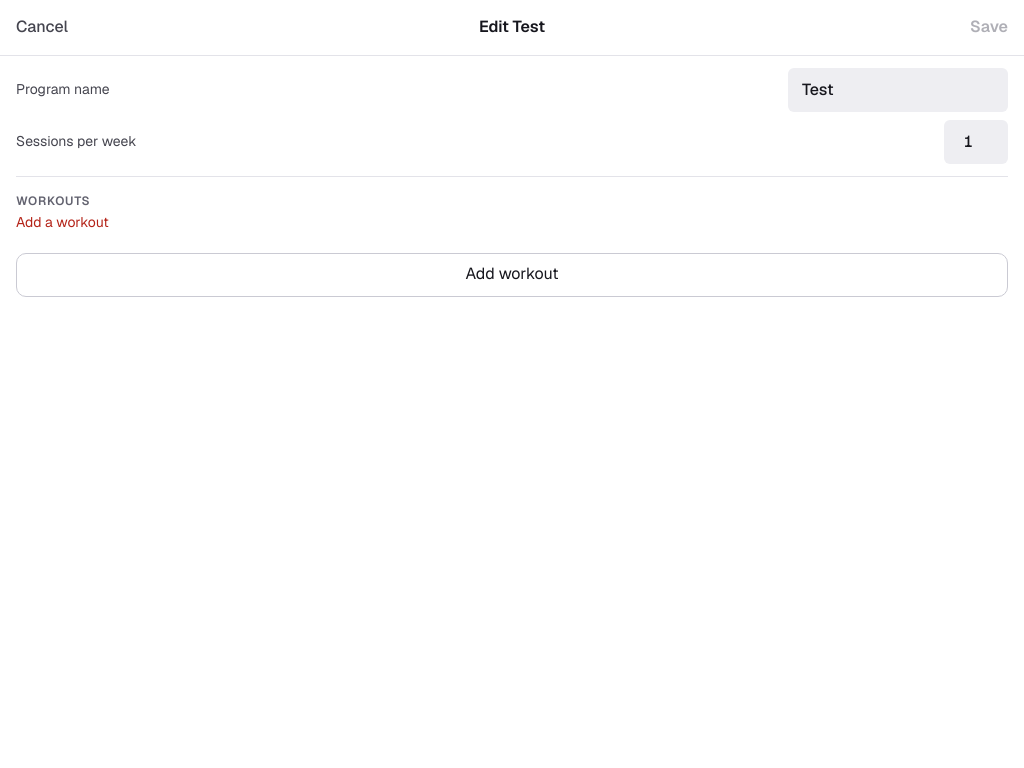
Test: O16 the no-workouts fault disables Save and is shown under the Workouts heading, until fixed
Expected: the button "Save" is disabled, [970, 6, 1008, 50]
Click the button "Add workout". click: (512, 275)
box: [16, 253, 1008, 297]
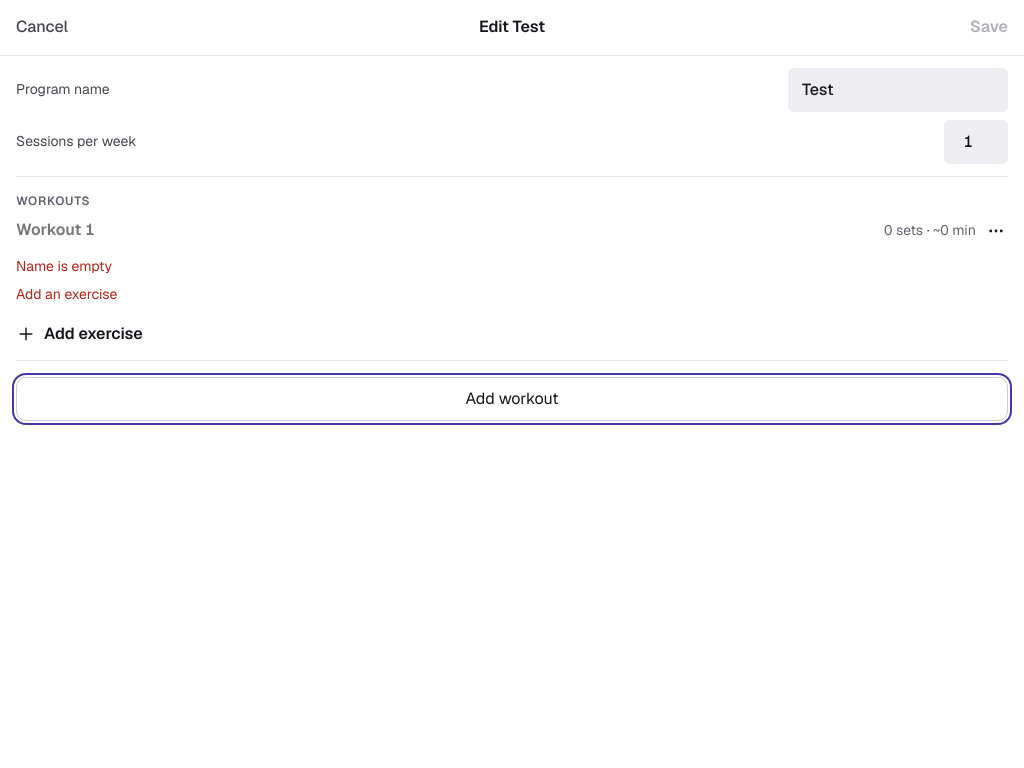
Type "Upper" into the field named "Workout name". click: (446, 231)
box: [16, 209, 876, 253]
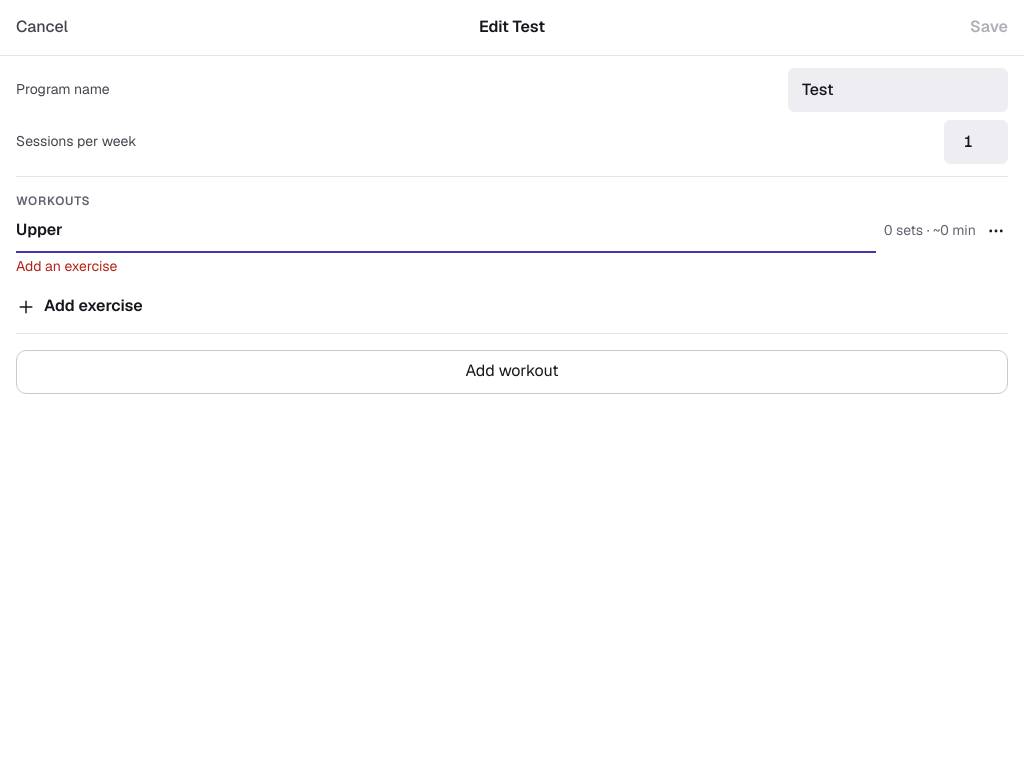
Click the button "Add exercise". click: (93, 306)
box: [16, 281, 1008, 333]
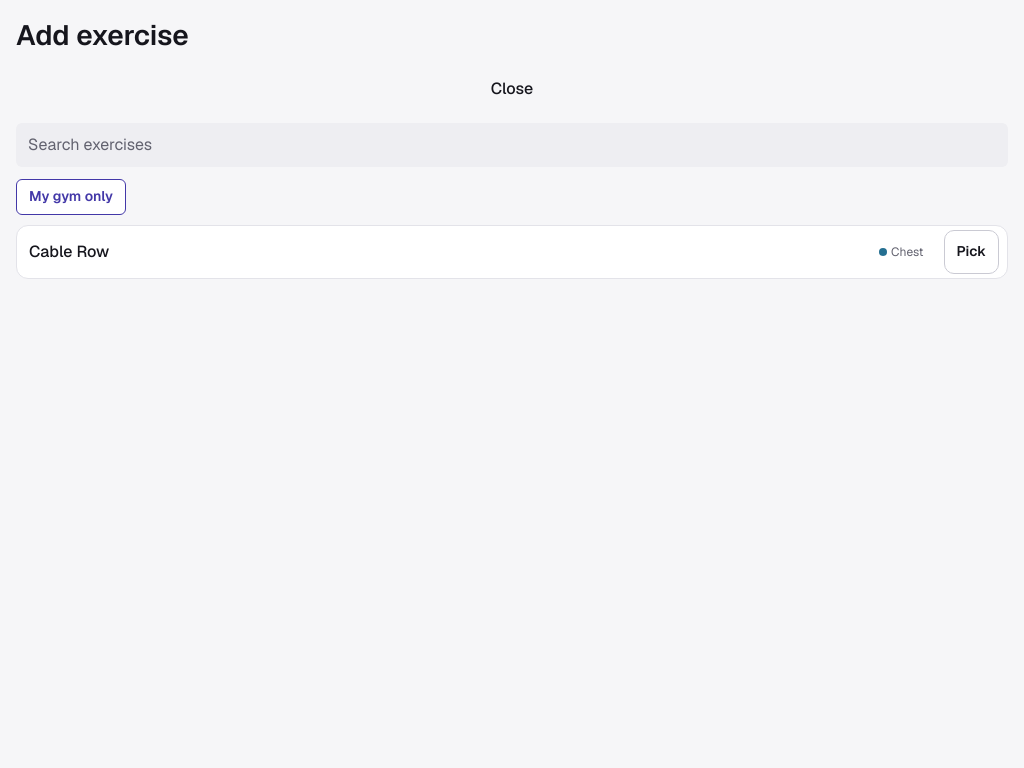
Type "row" into the search field labelled "Search exercises". click: (512, 145)
box: [16, 123, 1008, 167]
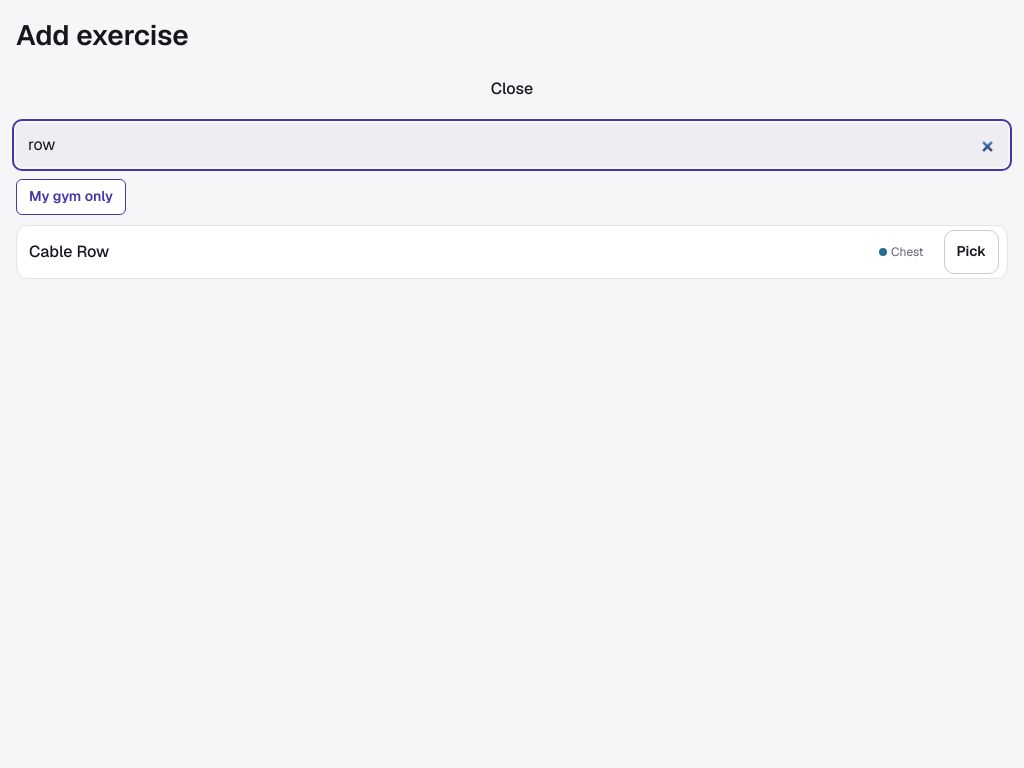
Click the button "Pick". click: (971, 252)
box: [944, 230, 999, 274]
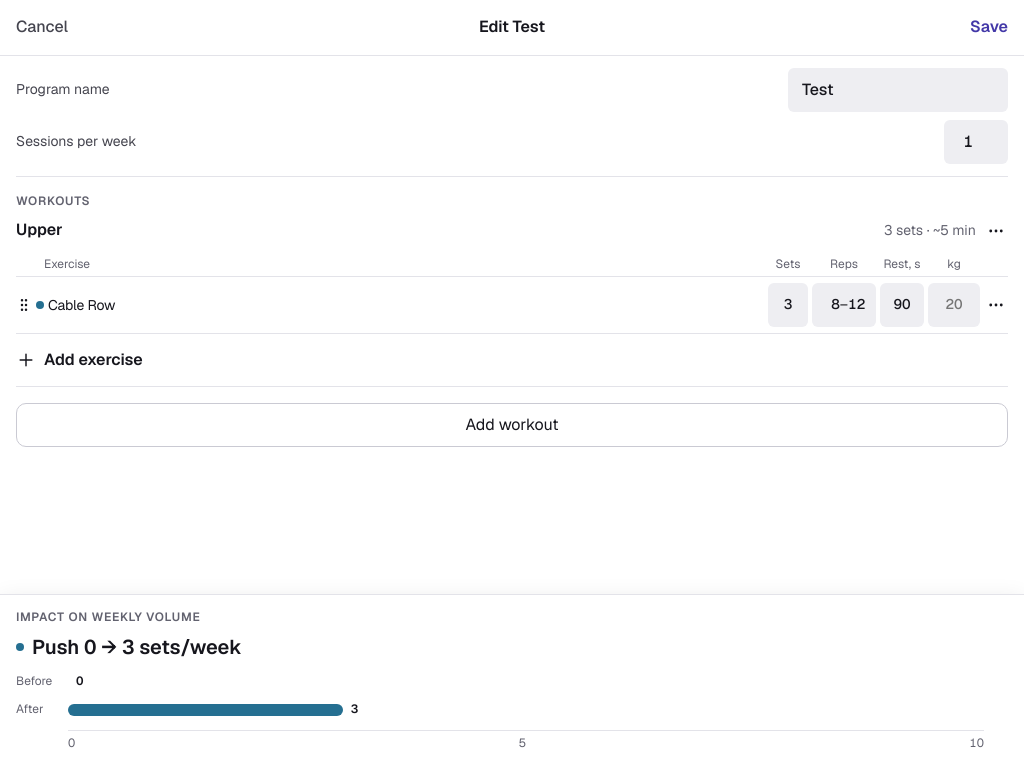
Expected: the text "Add a workout" is not shown
Now the button "Save" is enabled, box [970, 6, 1008, 50]
